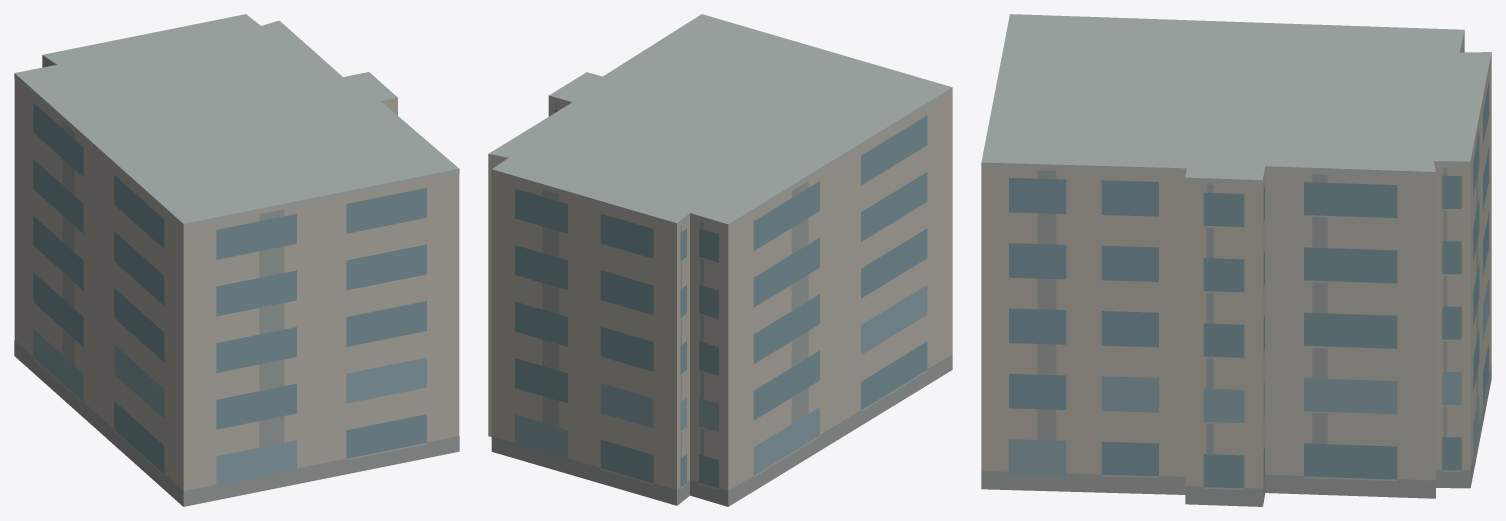
File: survey-upis-32958123.glb
3 views of the same model, side by side, from view 1: azimuth 30°, elevation 25°; view 2: azimuth 150°, elevation 25°; view 3: azimuth 270°, elevation 25° (orthographic). The views are drawn at different scales.
Parts seen in each view (by area): view 1: survey-upis-32958123.tmp; view 2: survey-upis-32958123.tmp; view 3: survey-upis-32958123.tmp.
Boxes of the visible parts, bbox=[...] form: survey-upis-32958123.tmp: bbox=[14, 14, 459, 506]; survey-upis-32958123.tmp: bbox=[488, 14, 952, 506]; survey-upis-32958123.tmp: bbox=[981, 14, 1491, 506].
Size of the model in its own units: 13.75 by 12.6 by 17.85.
